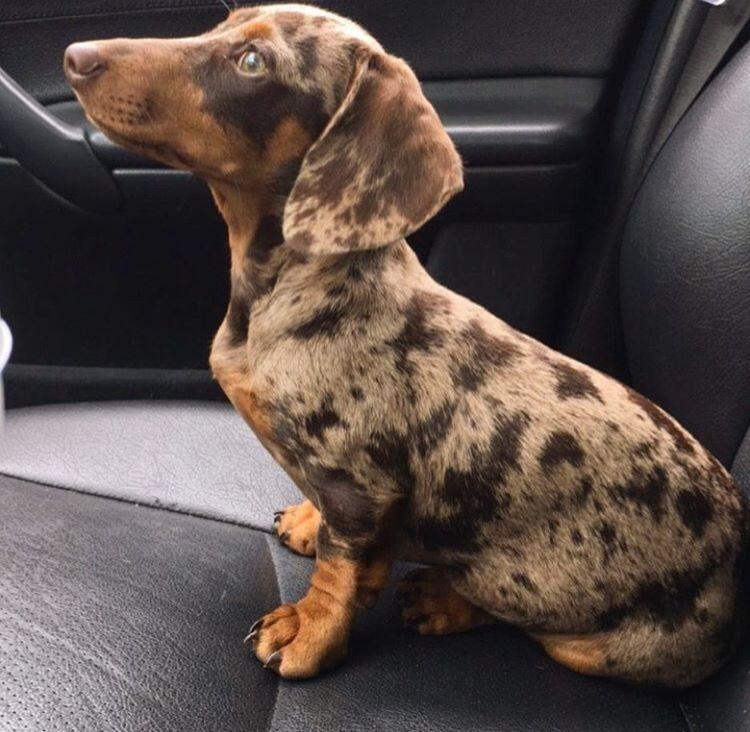puppy-dog: (63, 3, 750, 698)
